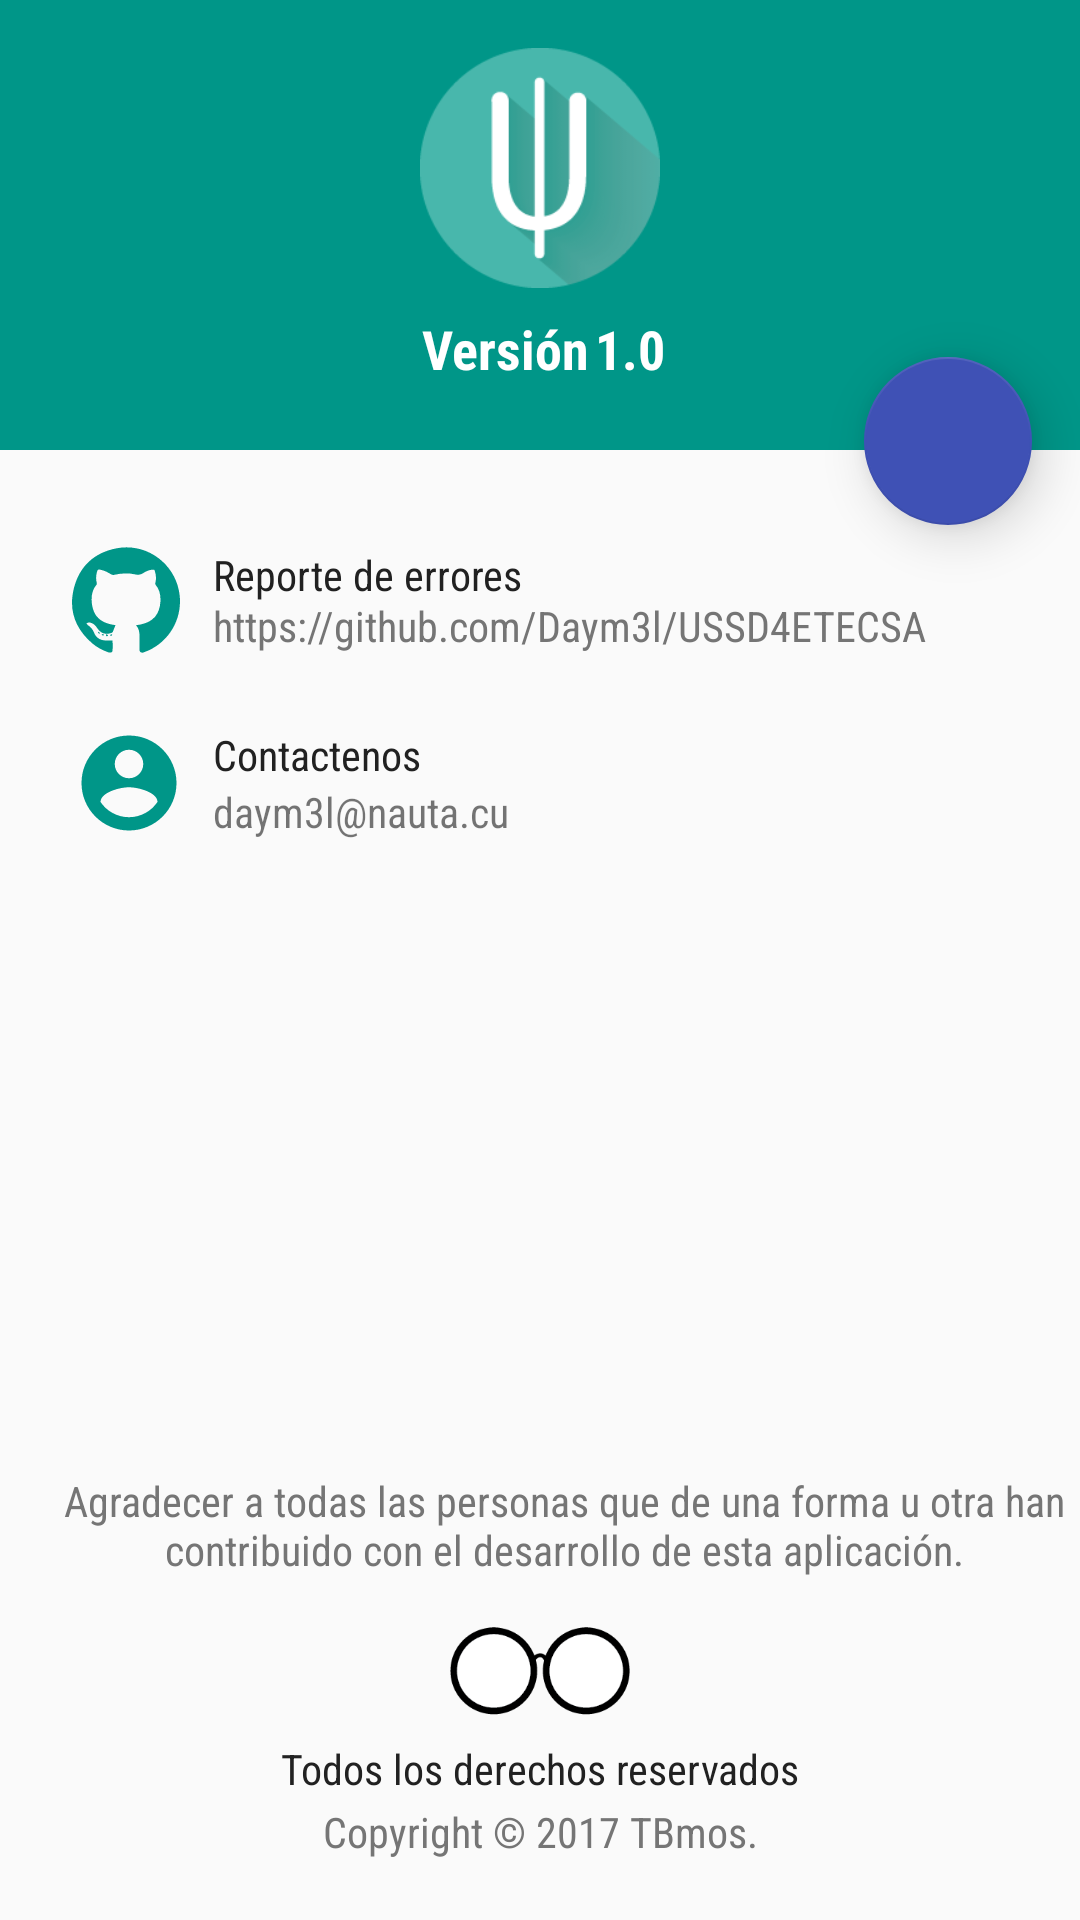

Locate icon controls on the screen. Image size 1080px x 1920px, boxes as (x1, y1, x2, y2).
account: (81, 735, 177, 831)
